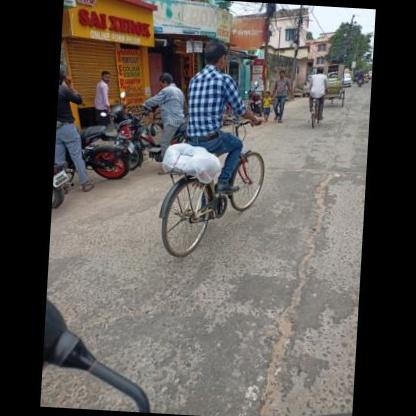Bicycle: (146, 110, 283, 269)
